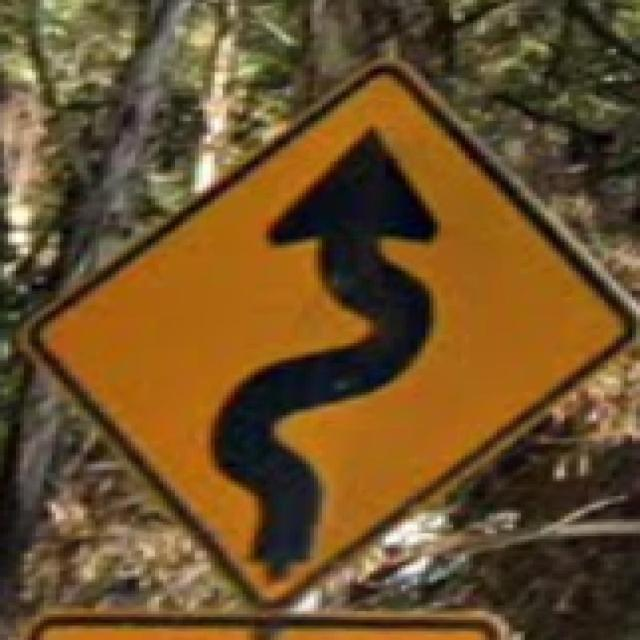Banyak Tikungan Pertama Kiri: (8, 49, 636, 608)
